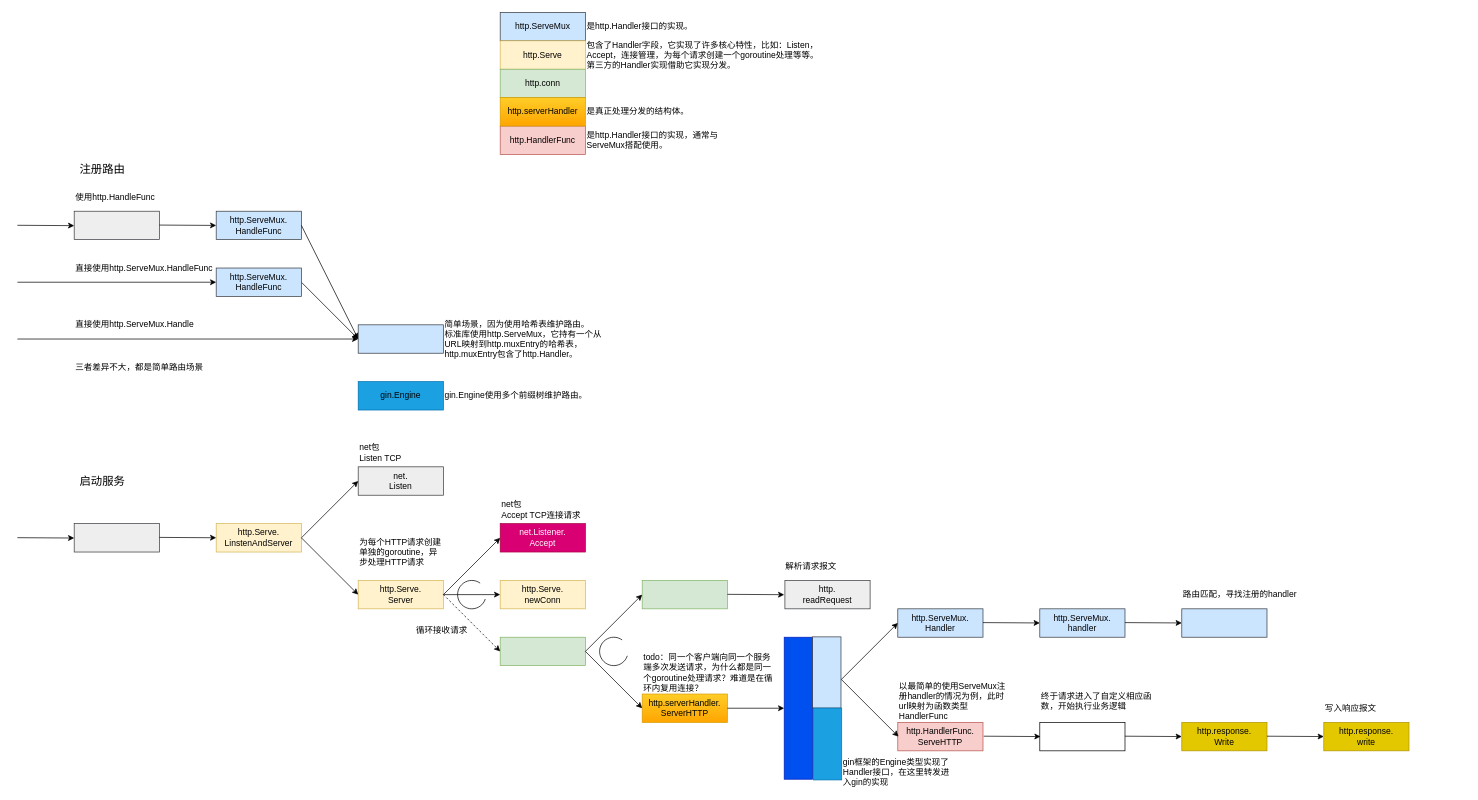
The diagram is 1478 pixels wide and 800 high, and some of its shapes have lost their labels. Each missing label, with the centre of its shape:
gin.Engine. ServeHTTP: pixel 827 743
http. HandleFunc: pixel 116 225
http. LinstenAndServer: pixel 116 537
http.conn. readRequest: pixel 684 594
http.conn. serve: pixel 542 651
http.Handler. ServeHTTP: pixel 798 708
http.ServeMux. Handle: pixel 400 338
http.ServeMux. match: pixel 1224 622
http.ServeMux. ServeHTTP: pixel 826 672
自定义相应函数: pixel 1082 736
